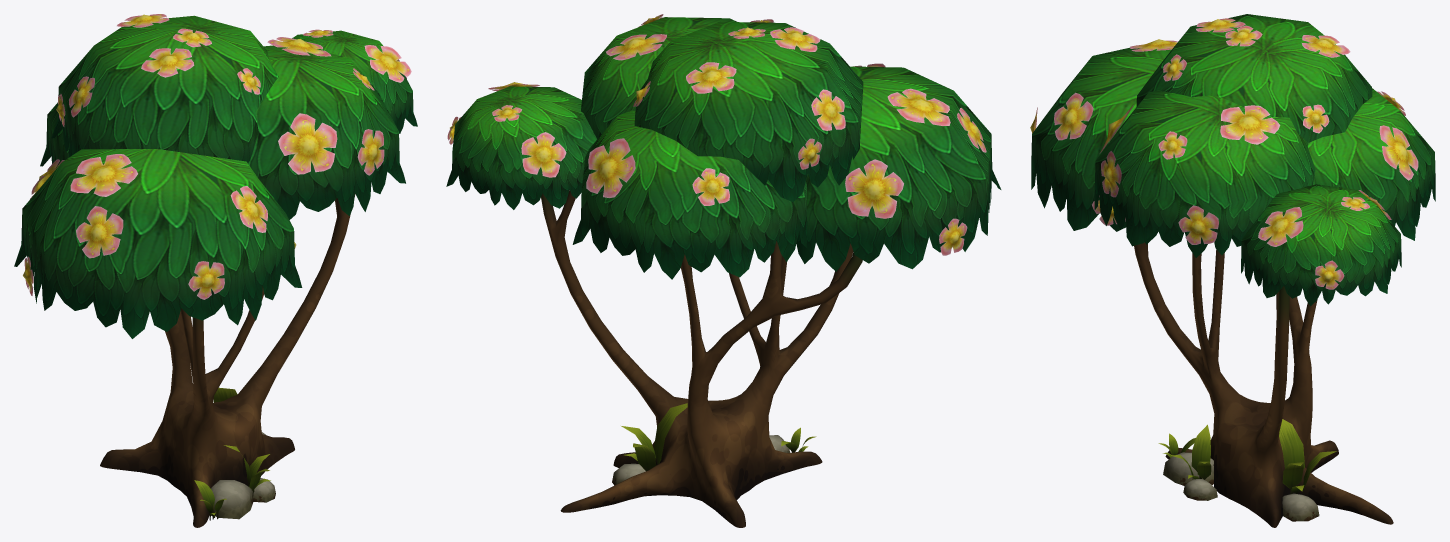
File: strange_forest_tree04.fbx
3 views of the same model, side by side, from view 1: azimuth 30°, elevation 25°; view 2: azimuth 150°, elevation 25°; view 3: azimuth 270°, elevation 25° (orthographic). The views are drawn at different scales.
Parts seen in each view (by area): view 1: strangeForestTree04; view 2: strangeForestTree04; view 3: strangeForestTree04.
Boxes of the visible parts, x1,y1,x2,y2 form: strangeForestTree04: (14,14,417,527); strangeForestTree04: (446,14,1001,527); strangeForestTree04: (1030,14,1435,527).
Bounding box in the file's own units: 183 × 178 × 148.
1 material, 1 textured.
